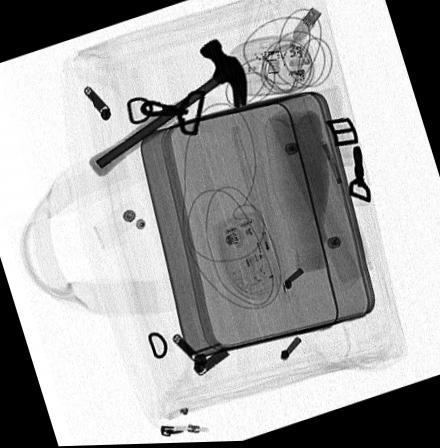Hammer: (87, 39, 247, 176)
